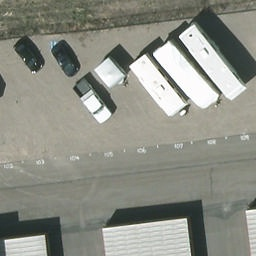camping car: (181, 26, 242, 101), (153, 44, 222, 110), (128, 56, 191, 123)
car: (12, 38, 47, 75), (51, 43, 83, 80)
pickup: (69, 75, 116, 129)
